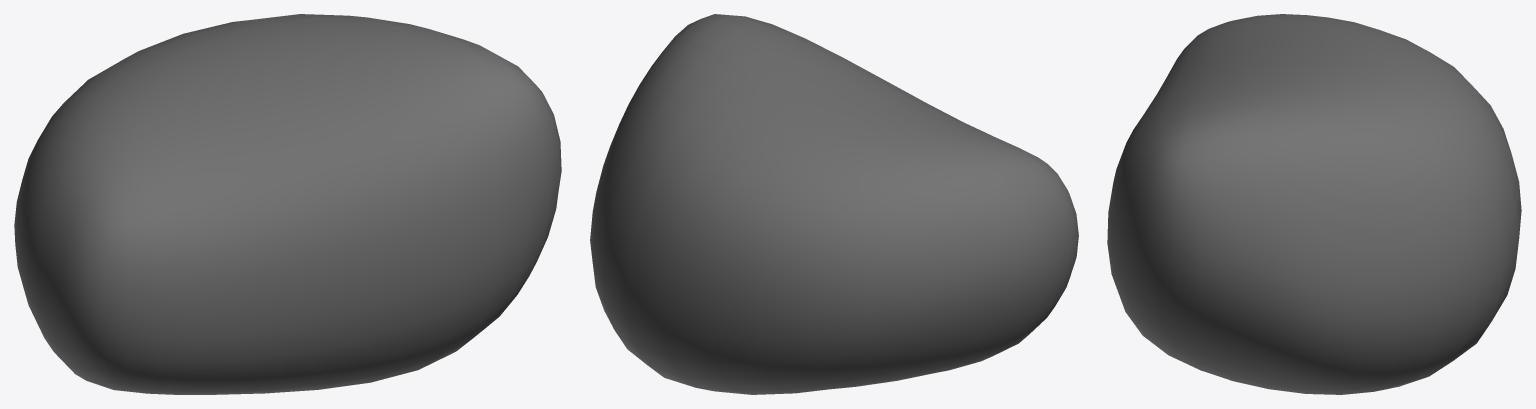
The model's file is rock_2.fbx.
The picture shows the model from 3 angles, left to right: view 1: azimuth 30°, elevation 25°; view 2: azimuth 150°, elevation 25°; view 3: azimuth 270°, elevation 25°; orthographic projection. The views are drawn at different scales.
Visible parts, largest first — view 1: rock_2; view 2: rock_2; view 3: rock_2.
Boxes of the visible parts, bbox=[...] form: rock_2: bbox=[14, 14, 561, 394]; rock_2: bbox=[590, 14, 1078, 394]; rock_2: bbox=[1107, 14, 1521, 394].
Size of the model in its own units: 24.39 by 15.5 by 19.65.
